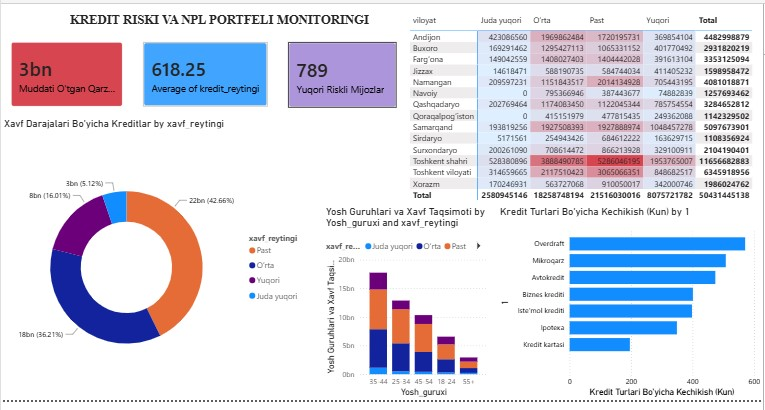

What the dashboard file says about the page in this screenshot:
{"tool":"powerbi","page":{"name":"Page 2","canvas":[1280,720],"ordinal":1},"visuals":[{"type":"cardVisual","fields":{"Data":["bank_data_powerbi_ready.Muddati O'tgan Qarz Hajmi"]},"box":[0,102.5,221.7,142.8],"z":0},{"type":"cardVisual","fields":{"Data":["Avg(bank_data_powerbi_ready.kredit_reytingi)"]},"box":[221.7,102.5,243.6,142.8],"z":1000},{"type":"cardVisual","fields":{"Data":["bank_data_powerbi_ready.Yuqori Riskli Mijozlar"]},"box":[465.3,102.5,216.7,144.5],"z":2000},{"type":"donutChart","fields":{"Category":["bank_data_powerbi_ready.xavf_reytingi"],"Y":["Sum(bank_data_powerbi_ready.kredit_summasi_uzs)"]},"box":[0,245.2,517.4,475.4],"z":3000},{"type":"columnChart","fields":{"Category":["bank_data_powerbi_ready.Yosh_guruxi"],"Y":["Sum(bank_data_powerbi_ready.kredit_summasi_uzs)"],"Series":["bank_data_powerbi_ready.xavf_reytingi"]},"box":[540.9,393.1,280.5,327.6],"z":4000},{"type":"clusteredBarChart","fields":{"Category":["bank_data_powerbi_ready.kredit_turi"],"Y":["Sum(bank_data_powerbi_ready.muddati_o'tgan_kunlar)"]},"box":[833.2,393.1,446.8,327.6],"z":5000},{"type":"pivotTable","fields":{"Rows":["bank_data_powerbi_ready.viloyat"],"Columns":["bank_data_powerbi_ready.xavf_reytingi"],"Values":["Sum(bank_data_powerbi_ready.kredit_summasi_uzs)"]},"box":[682,67.2,598,325.9],"z":6000},{"type":"textbox","box":[110.9,65.5,542.6,50.4],"z":7000}]}

Visuals, with their boxes on the page's 1280x720 design canvas (x1, y1, x2, y2). These are canvas units, not pixel positions in the 765x410 screenshot, which may show the page scaled, cropped or inside an application window:
cardVisual - bank_data_powerbi_ready.Muddati O'tgan Qarz Hajmi: x1=0, y1=102, x2=222, y2=245
cardVisual - Avg(bank_data_powerbi_ready.kredit_reytingi): x1=222, y1=102, x2=465, y2=245
cardVisual - bank_data_powerbi_ready.Yuqori Riskli Mijozlar: x1=465, y1=102, x2=682, y2=247
donutChart - bank_data_powerbi_ready.xavf_reytingi x Sum(bank_data_powerbi_ready.kredit_summasi_uzs): x1=0, y1=245, x2=517, y2=721
columnChart - bank_data_powerbi_ready.Yosh_guruxi x Sum(bank_data_powerbi_ready.kredit_summasi_uzs): x1=541, y1=393, x2=821, y2=721
clusteredBarChart - bank_data_powerbi_ready.kredit_turi x Sum(bank_data_powerbi_ready.muddati_o'tgan_kunlar): x1=833, y1=393, x2=1280, y2=721
pivotTable - bank_data_powerbi_ready.viloyat x bank_data_powerbi_ready.xavf_reytingi: x1=682, y1=67, x2=1280, y2=393
textbox: x1=111, y1=66, x2=654, y2=116
